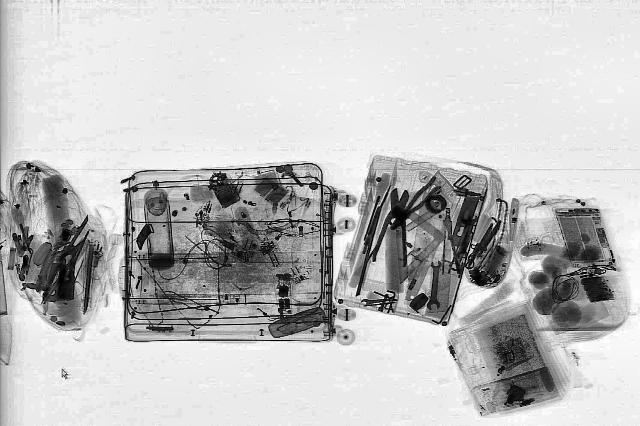Pliers: (368, 187, 420, 267), (385, 176, 447, 230)
Wrench: (426, 260, 444, 310)
